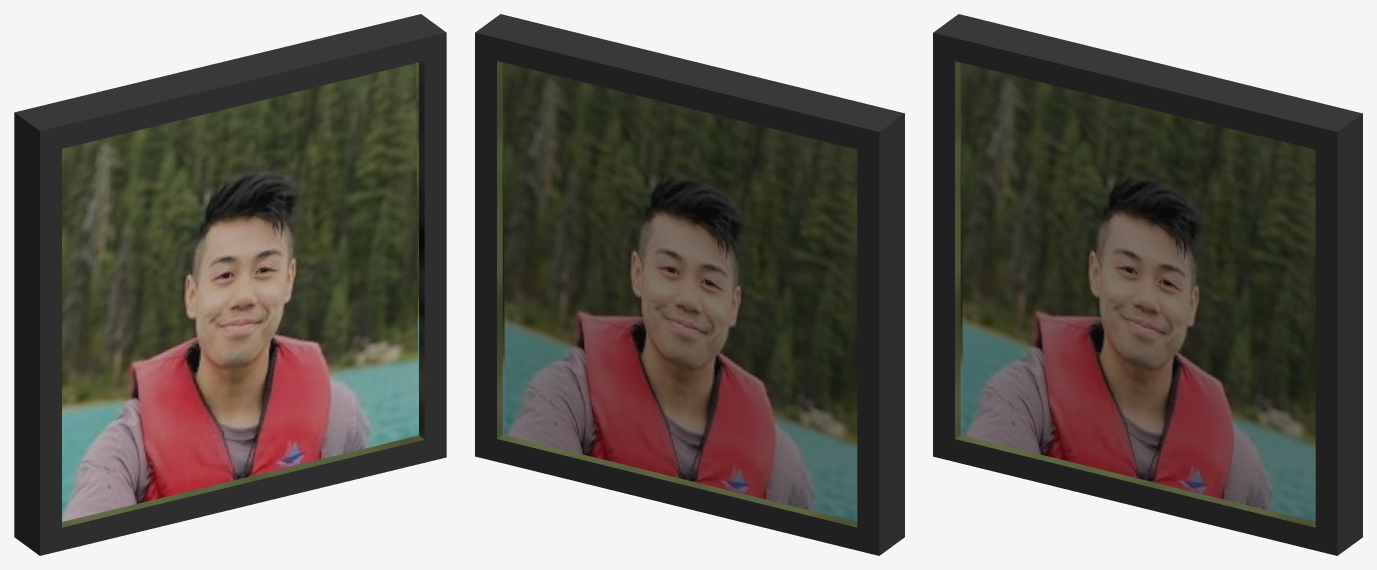
Rendered from pictureFrame.glb.
3 renders of one model, left to right at view 1: azimuth 30°, elevation 25°; view 2: azimuth 150°, elevation 25°; view 3: azimuth 330°, elevation 25°, orthographic.
Visible parts, largest first — view 1: Picture Frame; view 2: Picture Frame; view 3: Picture Frame.
Part boxes in pixels (box(x1,y1,x2,y2)): Picture Frame: box(14, 14, 446, 555); Picture Frame: box(475, 14, 904, 555); Picture Frame: box(933, 14, 1362, 555).
Size of what is drawn, in the model's own units: 1.48 by 1.48 by 0.1663.
Materials: 2 (1 with a texture image).
